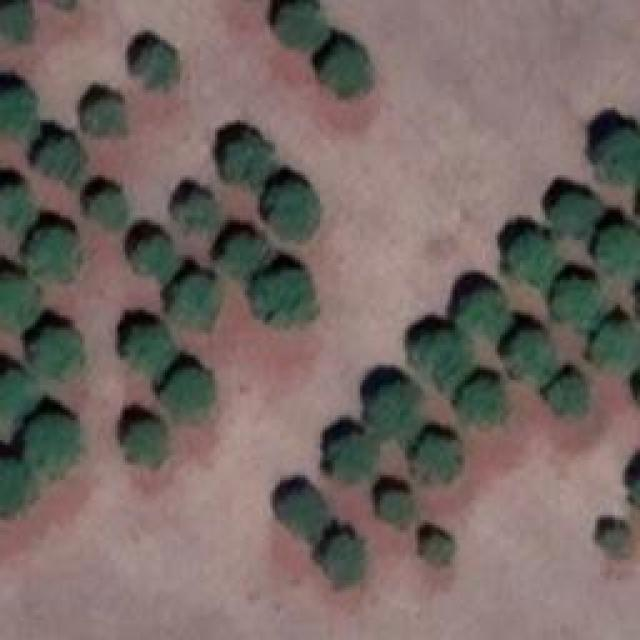Tree: (405, 320, 468, 385), (268, 175, 323, 245), (250, 270, 313, 330), (270, 472, 325, 540), (25, 410, 83, 470), (170, 268, 225, 328), (553, 268, 606, 328), (318, 42, 371, 100), (510, 327, 563, 385), (320, 430, 375, 485), (590, 310, 640, 368), (318, 533, 371, 586), (25, 225, 78, 278), (498, 230, 551, 283), (597, 125, 640, 190), (30, 328, 85, 378), (160, 360, 210, 415), (85, 175, 133, 230), (365, 378, 413, 433), (413, 427, 458, 485), (457, 378, 505, 431), (595, 220, 640, 273), (463, 280, 506, 333), (275, 0, 320, 50), (225, 135, 270, 185), (125, 322, 170, 370), (38, 133, 81, 183), (0, 80, 35, 140), (0, 265, 35, 325), (175, 187, 218, 235), (220, 230, 268, 273), (545, 375, 588, 423), (125, 228, 168, 273), (370, 488, 413, 533), (85, 92, 125, 140), (140, 42, 180, 90), (0, 455, 32, 512), (123, 415, 163, 460), (553, 188, 598, 228), (0, 368, 35, 418), (0, 183, 35, 228), (590, 520, 633, 555), (0, 0, 35, 42), (423, 527, 456, 565)
